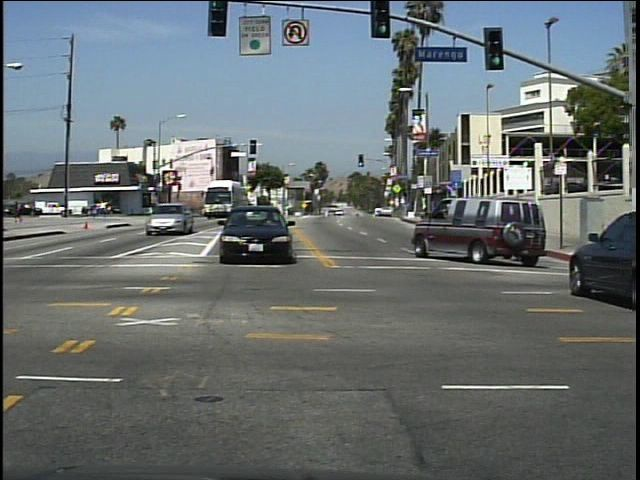person: (10, 197, 27, 226)
